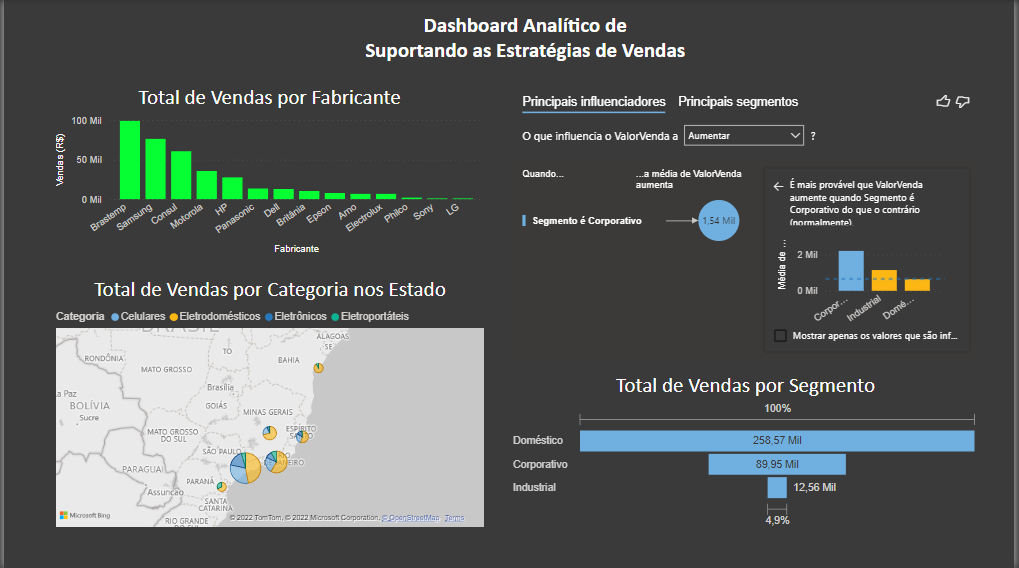

This screenshot's page, from the dashboard's own definition file:
{"tool":"powerbi","page":{"name":"Página 1","canvas":[1280,720],"ordinal":0},"visuals":[{"type":"clusteredColumnChart","title":"Total de Vendas por Fabricante","fields":{"Category":["DIM_PRODUTO.Fabricante"],"Y":["Sum(TB_FATO.ValorVenda)"]},"box":[61.2,107,551.8,221],"z":0},{"type":"map","title":"Total de Vendas por Categoria nos Estado","fields":{"Category":["DIM_LOJA.Estado"],"Series":["DIM_PRODUTO.Categoria"],"Size":["Sum(TB_FATO.ValorVenda)"]},"box":[60.8,349.9,552.7,323.2],"z":1000},{"type":"funnel","title":"Total de Vendas por Segmento","fields":{"Category":["DIM_PRODUTO.Segmento"],"Y":["Sum(TB_FATO.ValorVenda)"]},"box":[640.1,471.5,599.6,201.5],"z":2000},{"type":"keyDriversVisual","fields":{"Target":["TB_FATO.ValorVenda"],"ExplainBy":["DIM_PRODUTO.Segmento"]},"box":[640.1,106.5,599.6,352.4],"z":3000},{"type":"textbox","box":[61.2,9.7,1199.5,84.8],"z":4000}]}

Visuals, with their boxes in screenshot pixels (x1, y1, x2, y2), scaled from the page's 1280x720 canvas onto the 1019x568 screenshot:
"Total de Vendas por Fabricante" clusteredColumnChart: x1=49 y1=84 x2=488 y2=259
"Total de Vendas por Categoria nos Estado" map: x1=48 y1=276 x2=488 y2=531
"Total de Vendas por Segmento" funnel: x1=510 y1=372 x2=987 y2=531
keyDriversVisual - TB_FATO.ValorVenda x DIM_PRODUTO.Segmento: x1=510 y1=84 x2=987 y2=362
textbox: x1=49 y1=8 x2=1004 y2=75
